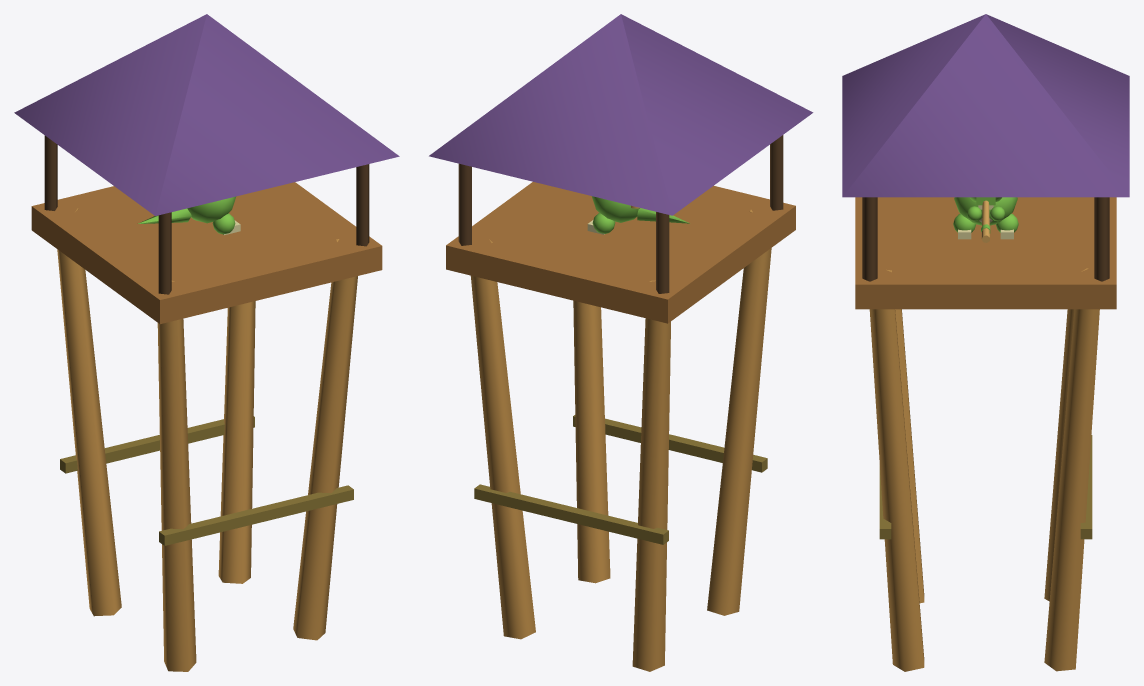
Rendered from goblin-level1.glb.
3 renders of one model, left to right at view 1: azimuth 30°, elevation 25°; view 2: azimuth 150°, elevation 25°; view 3: azimuth 270°, elevation 25°, orthographic.
Visible parts, largest first — view 1: object 12, object 7, object 1, object 4, object 3, object 2, object 5, object 6, turret, object 10, object 11, object 8; view 2: object 12, object 7, object 3, object 2, object 1, object 4, object 6, object 5, turret, object 9, object 8, object 10; view 3: object 12, object 7, object 2, object 4, turret, object 1, object 3, object 9, object 11, object 6.
Part boxes in pixels (bbox=[...]): object 12: bbox=[14, 14, 399, 215]; object 7: bbox=[31, 182, 382, 324]; object 1: bbox=[57, 208, 121, 616]; object 4: bbox=[293, 239, 357, 640]; object 3: bbox=[157, 280, 196, 671]; object 2: bbox=[218, 301, 255, 583]; object 5: bbox=[159, 485, 353, 545]; object 6: bbox=[60, 416, 254, 473]; turret: bbox=[138, 196, 240, 235]; object 10: bbox=[158, 212, 171, 294]; object 11: bbox=[356, 164, 369, 246]; object 8: bbox=[44, 135, 57, 210]; object 12: bbox=[429, 14, 813, 215]; object 7: bbox=[446, 182, 795, 323]; object 3: bbox=[707, 209, 771, 615]; object 2: bbox=[470, 239, 535, 639]; object 1: bbox=[632, 280, 670, 671]; object 4: bbox=[573, 300, 610, 583]; object 6: bbox=[474, 484, 668, 544]; object 5: bbox=[573, 415, 767, 472]; turret: bbox=[587, 196, 689, 234]; object 9: bbox=[458, 163, 471, 245]; object 8: bbox=[656, 212, 669, 293]; object 10: bbox=[770, 135, 783, 210]; object 12: bbox=[842, 14, 1129, 197]; object 7: bbox=[855, 197, 1116, 309]; object 2: bbox=[1044, 268, 1099, 671]; object 4: bbox=[869, 269, 924, 671]; turret: bbox=[953, 197, 1018, 242]; object 1: bbox=[1044, 309, 1074, 601]; object 3: bbox=[895, 309, 924, 603]; object 9: bbox=[1094, 197, 1109, 281]; object 11: bbox=[862, 197, 877, 281]; object 6: bbox=[1080, 435, 1092, 539].
Size of the model in its own units: 1.5 by 3.53 by 1.48.
